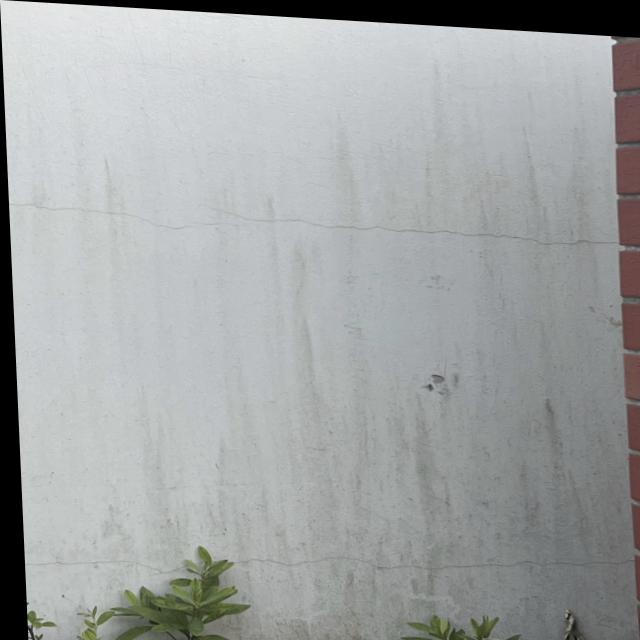crack: (16, 189, 622, 261), (34, 549, 634, 576)
